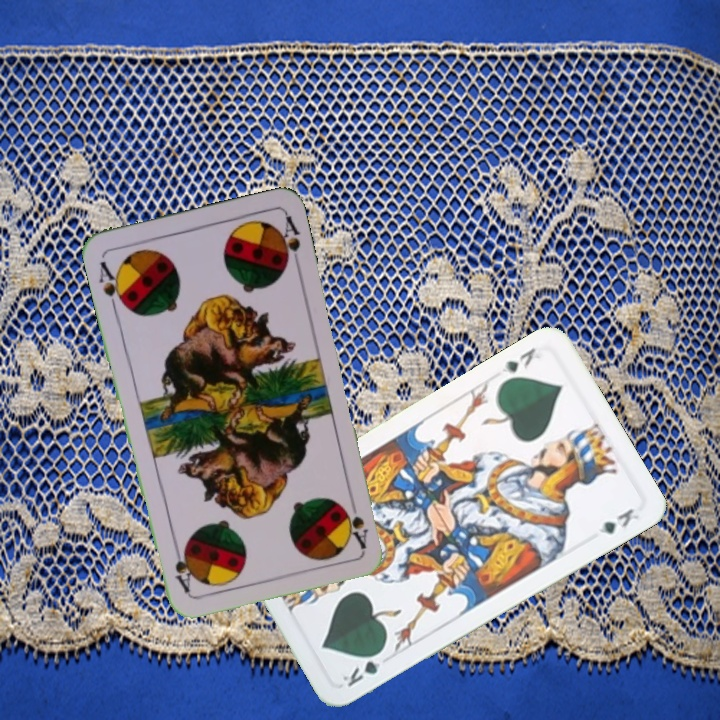GK: (339, 646, 387, 690), (497, 343, 538, 377)
SA: (94, 257, 129, 313), (338, 494, 371, 552)
